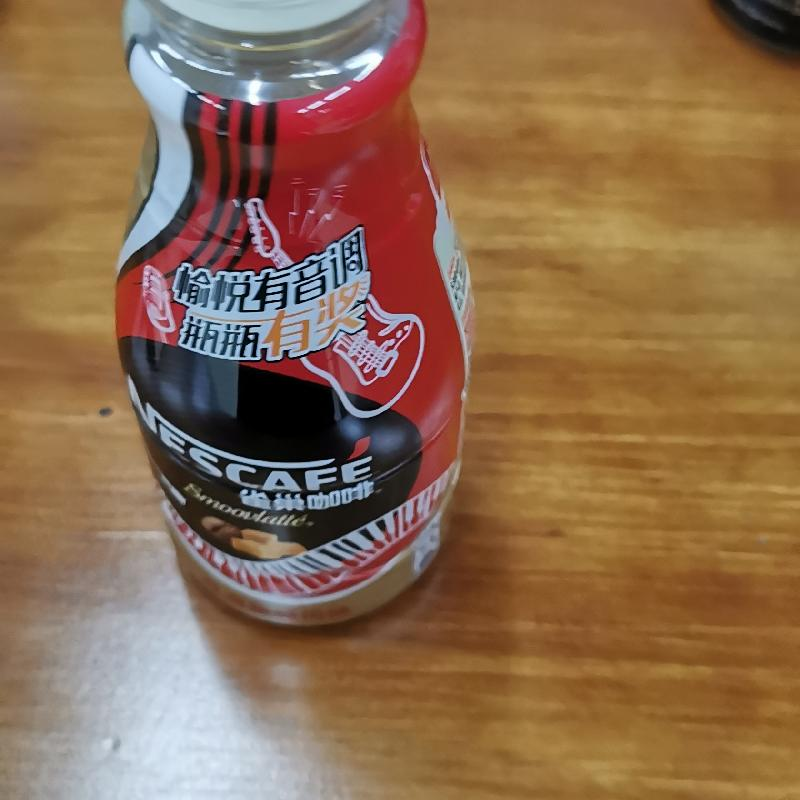bottles: (103, 1, 475, 630)
